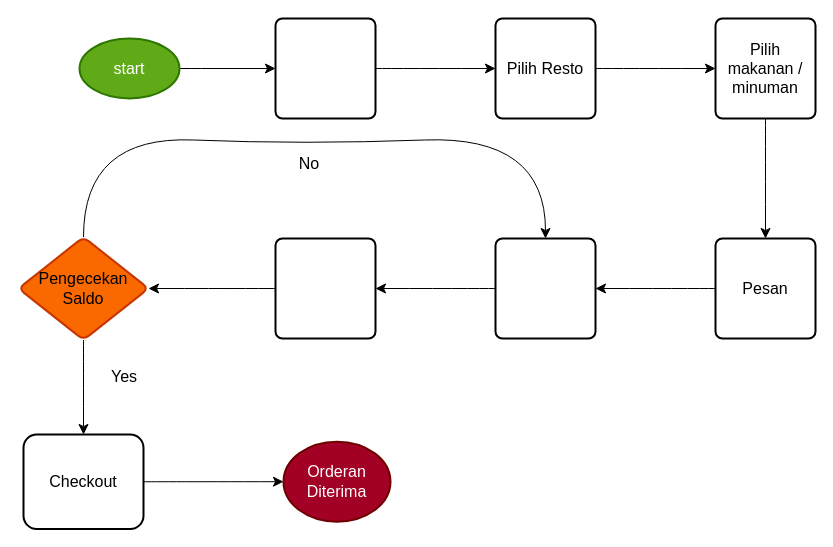
This 833x547 diagram has some shape labels left out. Each missing label, with the centre of its shape:
"Cari Resto" goes at point (325, 68).
"Muncul Tagihan" goes at point (545, 288).
"Pembayaran E-Wallet" goes at point (325, 288).
